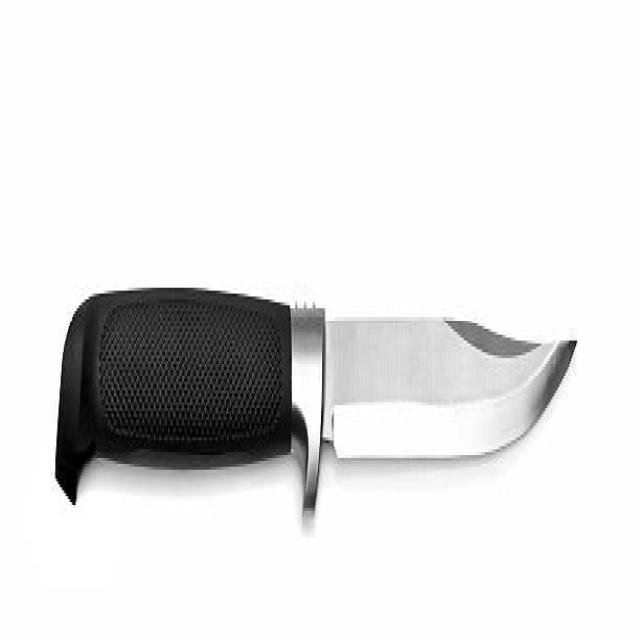knife: (55, 282, 584, 512)
